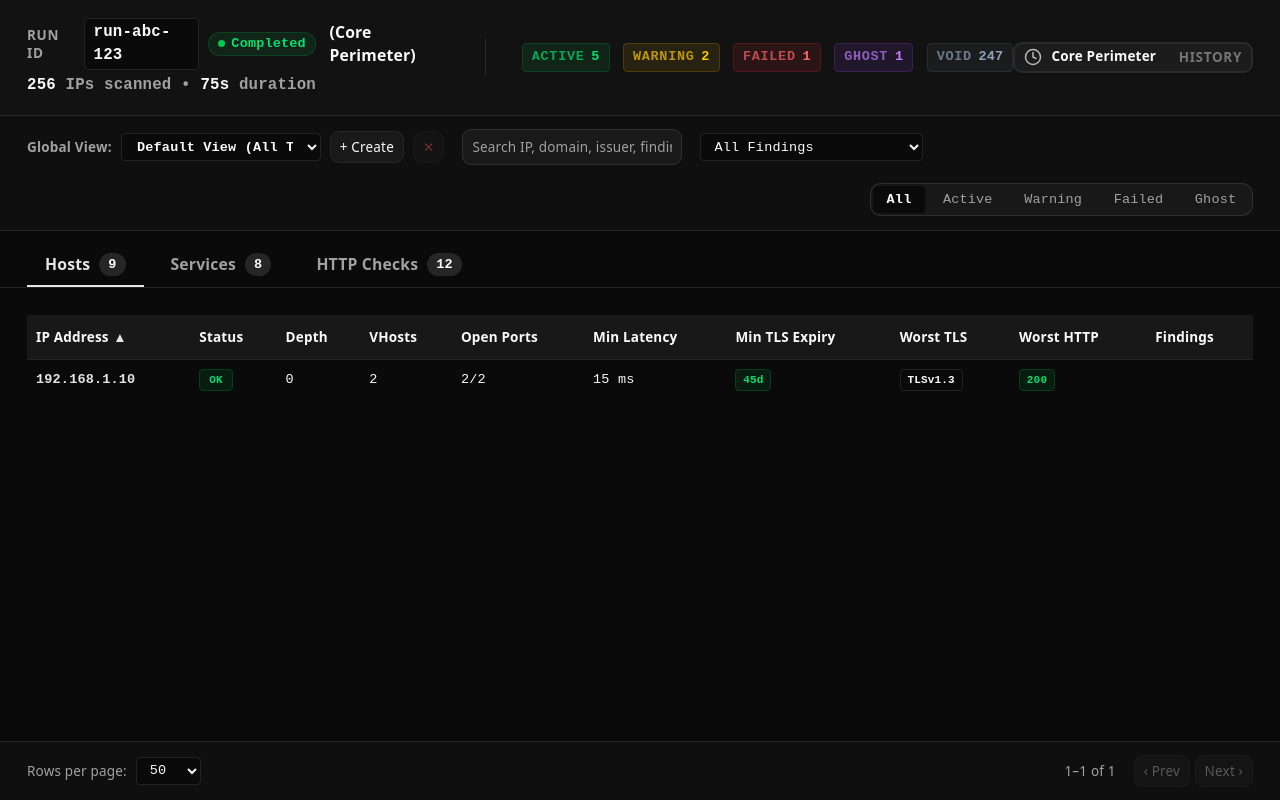
Test: HostTablePage 3-Tab Flat Relational Explorer › opens slide-over drawer when clicking IP address and renders host detail sections
Click the button "192.168.1.10" at (86, 380), box [36,371,135,389]
(page scrolled)
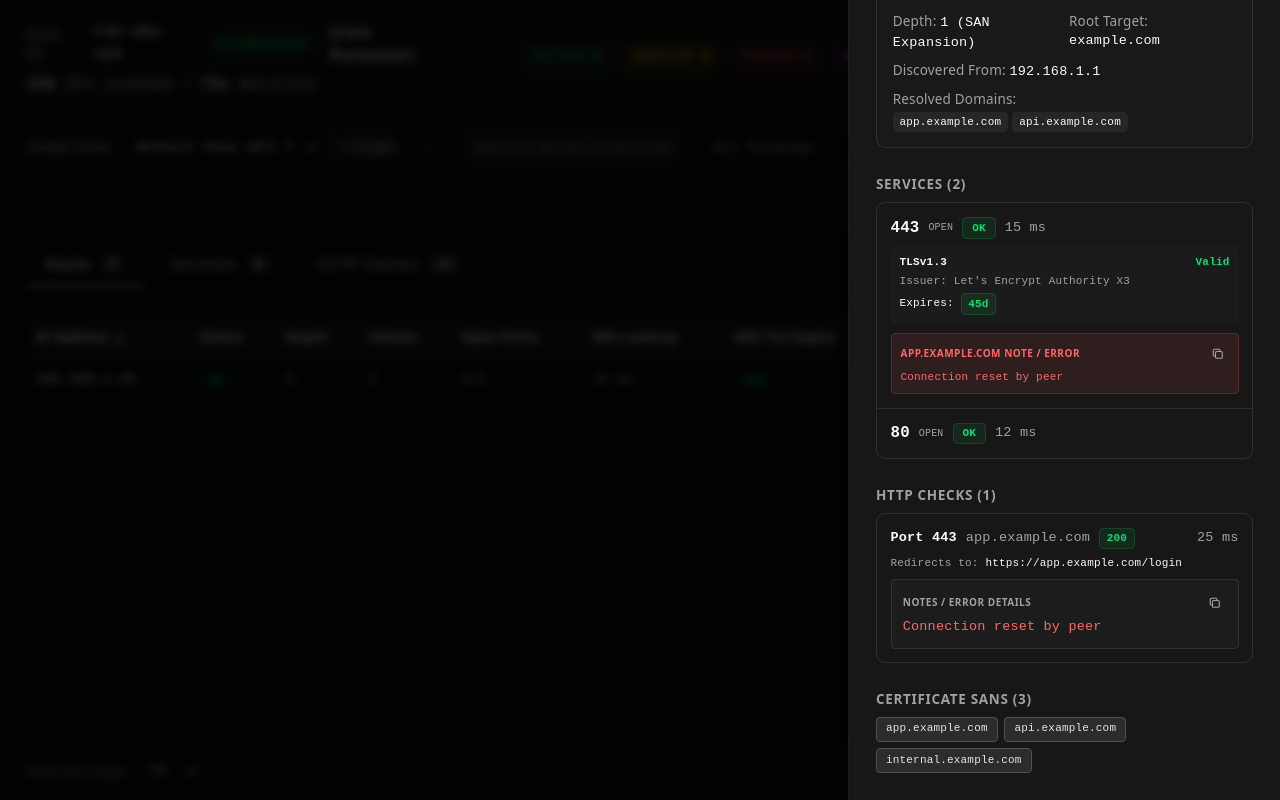
Now the dialog with test id "host-detail-drawer" is shown, box [848,0,1279,799]
Now the text "example.com" is shown, box [1069,33,1160,48]
Now the text "192.168.1.1" is shown, box [1009,64,1100,79]
